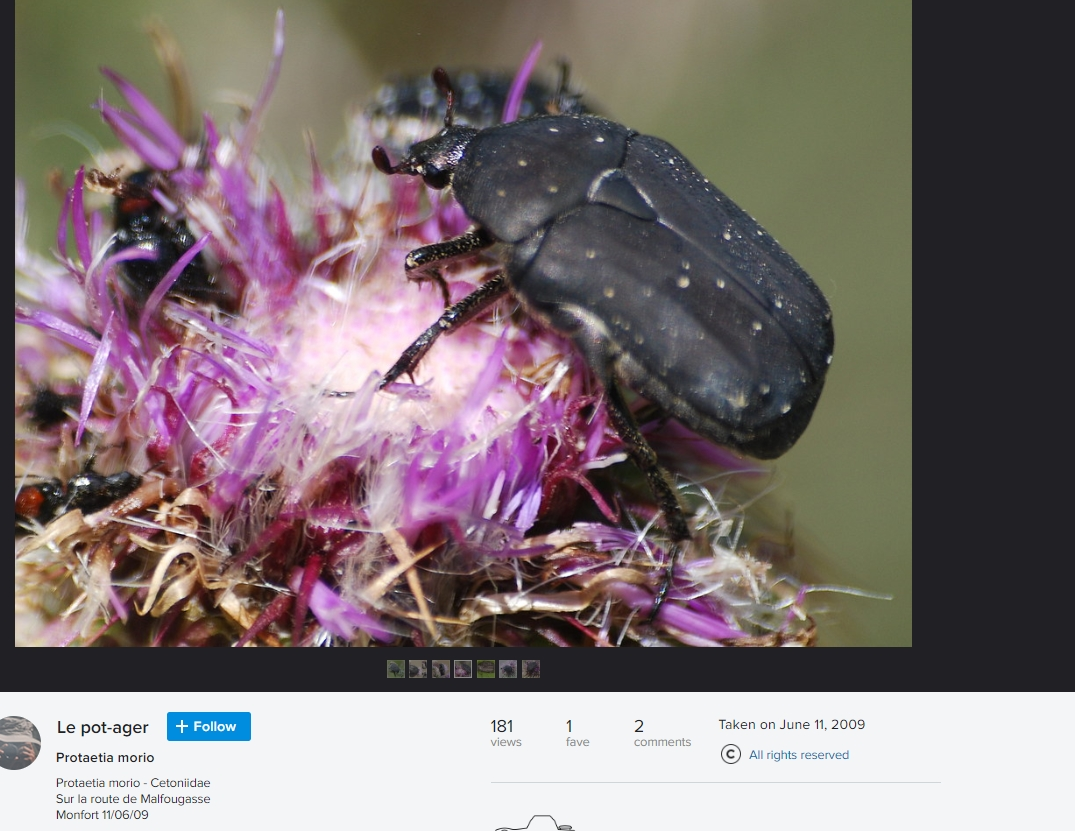Protaetia_morio_morio: (378, 67, 846, 465)
